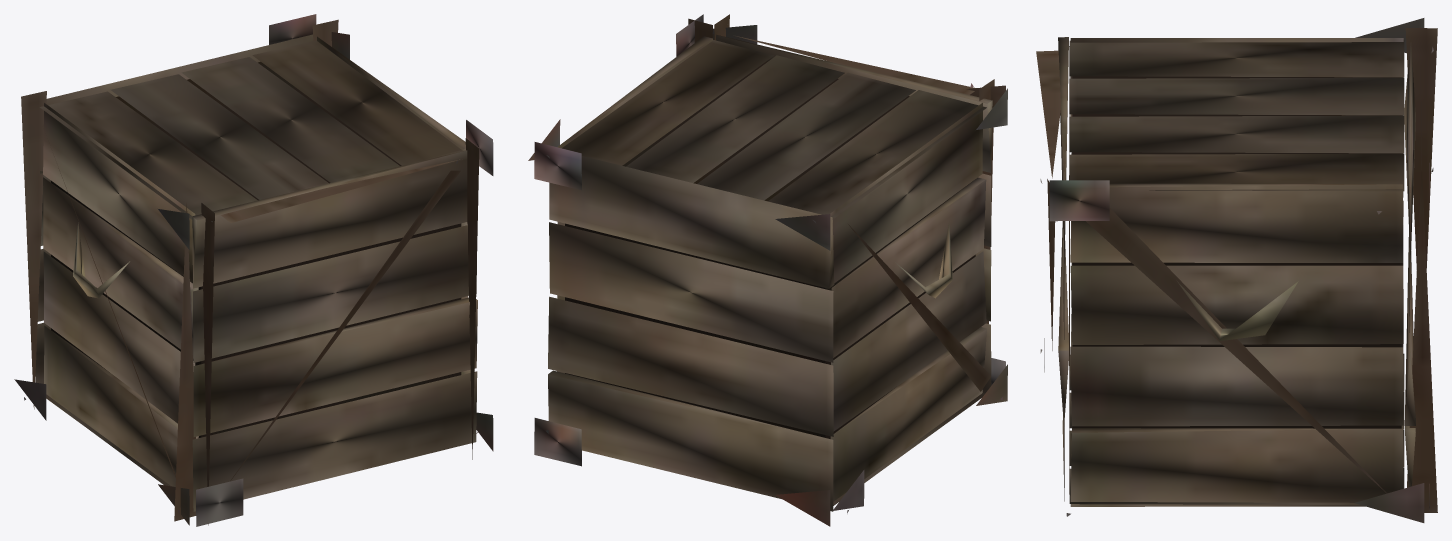
The model's file is crate_lod2.glb.
3 views of the same model, side by side, from view 1: azimuth 30°, elevation 25°; view 2: azimuth 150°, elevation 25°; view 3: azimuth 270°, elevation 25° (orthographic). The views are drawn at different scales.
Visible parts, largest first — view 1: crate; view 2: crate; view 3: crate.
Part boxes in pixels (x1,y1,x2,y2): crate: (14,14,493,526); crate: (528,14,1007,526); crate: (1036,18,1437,522).
Bounding box in the file's own units: 1.16 × 1.05 × 1.07.
1 material, 1 textured.
